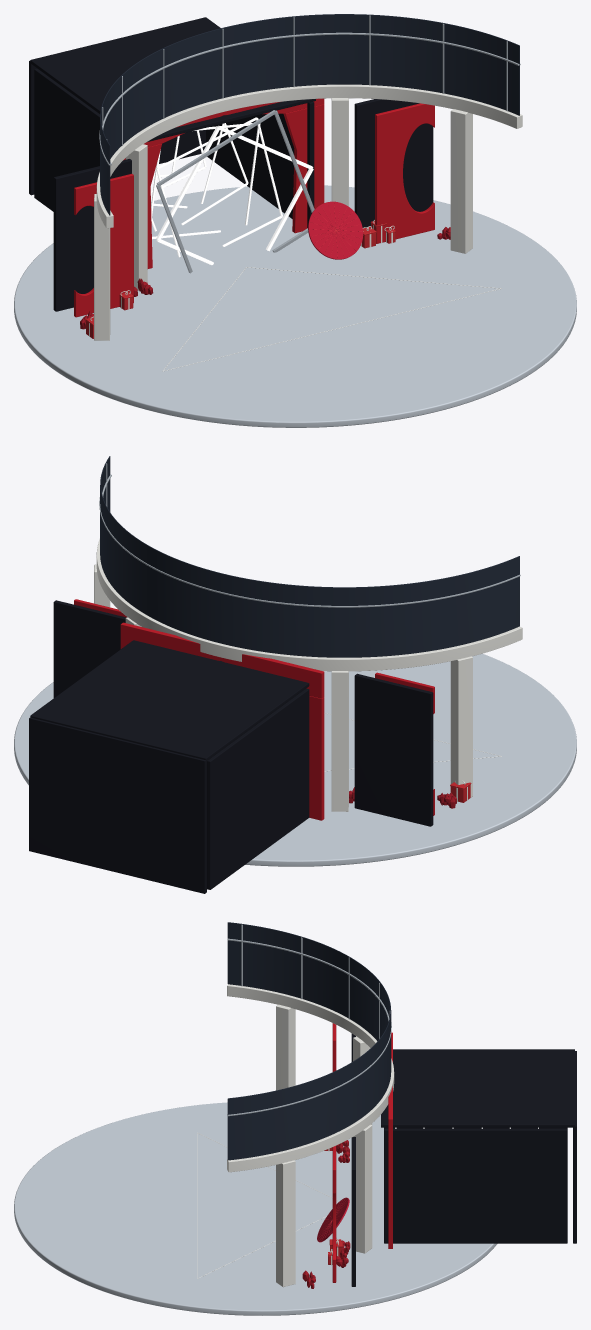
Rendered from R01_twistframe_hall.glb.
The picture shows the model from 3 angles, top to bottom: view 1: azimuth 30°, elevation 25°; view 2: azimuth 150°, elevation 25°; view 3: azimuth 270°, elevation 25°; orthographic projection. The views are drawn at different scales.
Parts seen in each view (by area): view 1: finite pale stage slab, upper curved dark glazing, tunnel upper dark return, white curved upper fascia, tunnel left return, tunnel right return, right red screen, right dark bay return, left dark bay return, left red screen, white pier +59, central red right flank (+10 smaller); view 2: upper curved dark glazing, finite pale stage slab, tunnel distant dark stop, tunnel upper dark return, tunnel left return, left dark bay return, white curved upper fascia, right dark bay return, central red upper lintel, white pier -59, white pier -29, central red left flank (+1 smaller); view 3: finite pale stage slab, tunnel right return, upper curved dark glazing, tunnel upper dark return, white curved upper fascia, white pier +59, white pier +29, white pier -59, upper narrow glazing rail, right dark bay return, right red screen, tunnel distant dark stop (+2 smaller).
Boxes of the visible parts, x1,y1,x2,y2 form: finite pale stage slab: (14,185,576,427); upper curved dark glazing: (100,14,519,215); tunnel upper dark return: (30,17,315,141); white curved upper fascia: (96,84,522,228); tunnel left return: (34,68,100,211); tunnel right return: (206,101,314,227); right red screen: (375,103,434,243); right dark bay return: (354,99,433,227); left dark bay return: (53,159,131,311); left red screen: (74,173,133,317); white pier +59: (450,109,472,253); central red right flank: (283,104,324,233); upper curved dark glazing: (100,456,519,657); finite pale stage slab: (14,653,576,866); tunnel distant dark stop: (29,717,206,893); tunnel upper dark return: (30,640,309,760); tunnel left return: (207,688,309,889); left dark bay return: (354,673,433,826); white curved upper fascia: (96,539,522,671); right dark bay return: (53,600,126,697); central red upper lintel: (120,622,324,698); white pier -59: (450,656,472,797); white pier -29: (331,671,348,811); central red left flank: (309,696,324,820); finite pale stage slab: (14,1102,497,1315); tunnel right return: (384,1128,567,1243); upper curved dark glazing: (227,922,391,1160); tunnel upper dark return: (381,1049,574,1127); white curved upper fascia: (227,984,394,1172); white pier +59: (276,1160,295,1287); white pier +29: (353,1124,372,1253); white pier -59: (276,1004,295,1090); upper narrow glazing rail: (227,938,391,1116); right dark bay return: (351,1137,355,1286); right red screen: (332,1146,336,1282); tunnel distant dark stop: (573,1051,576,1243).
Size of the model in its own units: 23 by 10.28 by 26.09.
